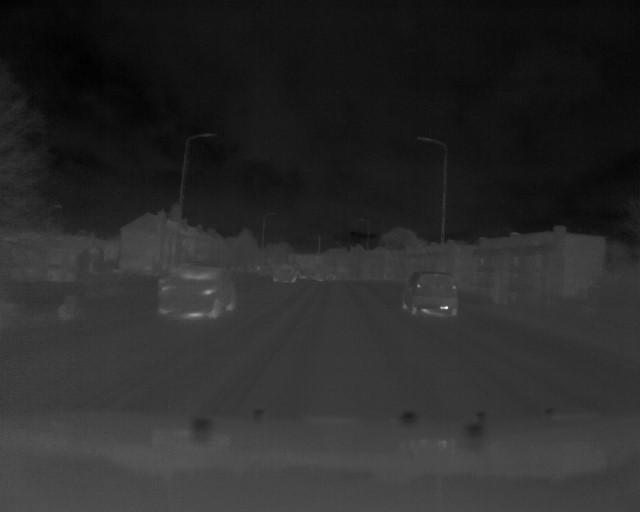car: (155, 261, 240, 320), (398, 268, 462, 320)
